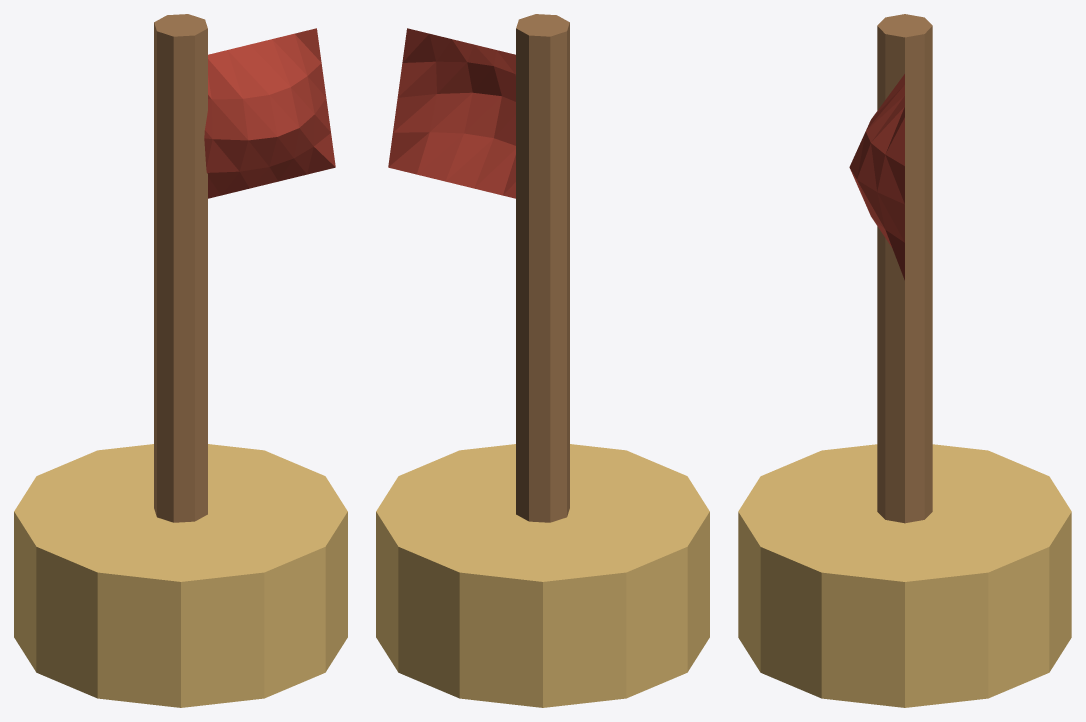
File: buoy.glb
3 views of the same model, side by side, from view 1: azimuth 30°, elevation 25°; view 2: azimuth 150°, elevation 25°; view 3: azimuth 270°, elevation 25° (orthographic).
Visible parts, largest first — view 1: buoy; view 2: buoy; view 3: buoy.
Boxes of the visible parts, bbox=[...] form: buoy: bbox=[14, 14, 347, 707]; buoy: bbox=[376, 14, 709, 707]; buoy: bbox=[738, 14, 1071, 707].
Size of the model in its own units: 0.87 by 1.7 by 0.84.
